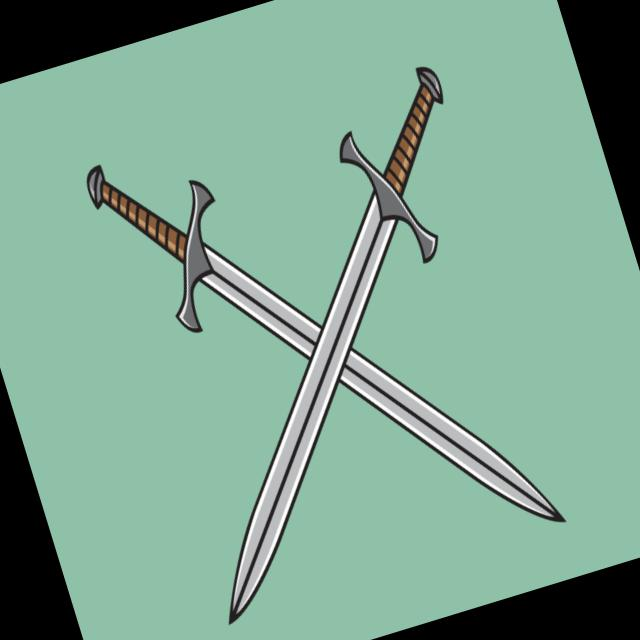Weapon: (80, 61, 573, 634), (89, 63, 572, 628)
